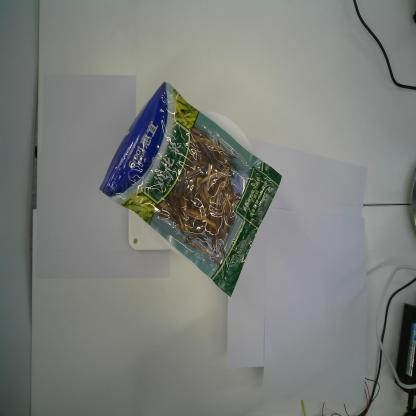Dried Food: (98, 81, 282, 297)
